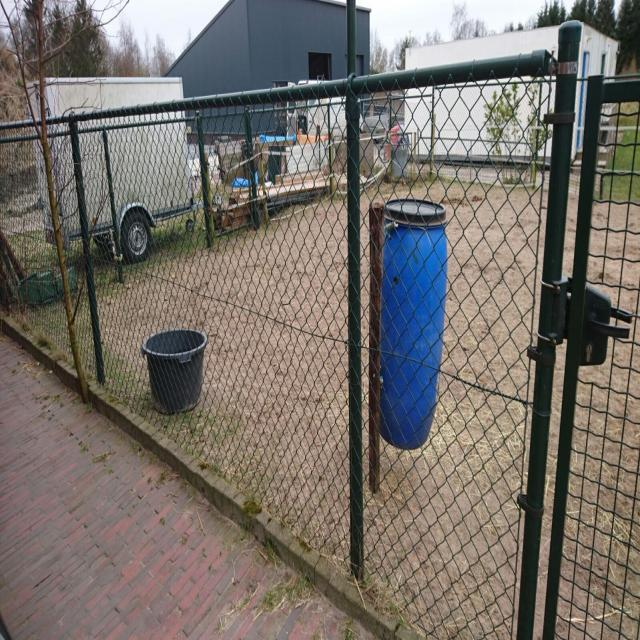fence line: (323, 45, 640, 640), (12, 99, 358, 565)
